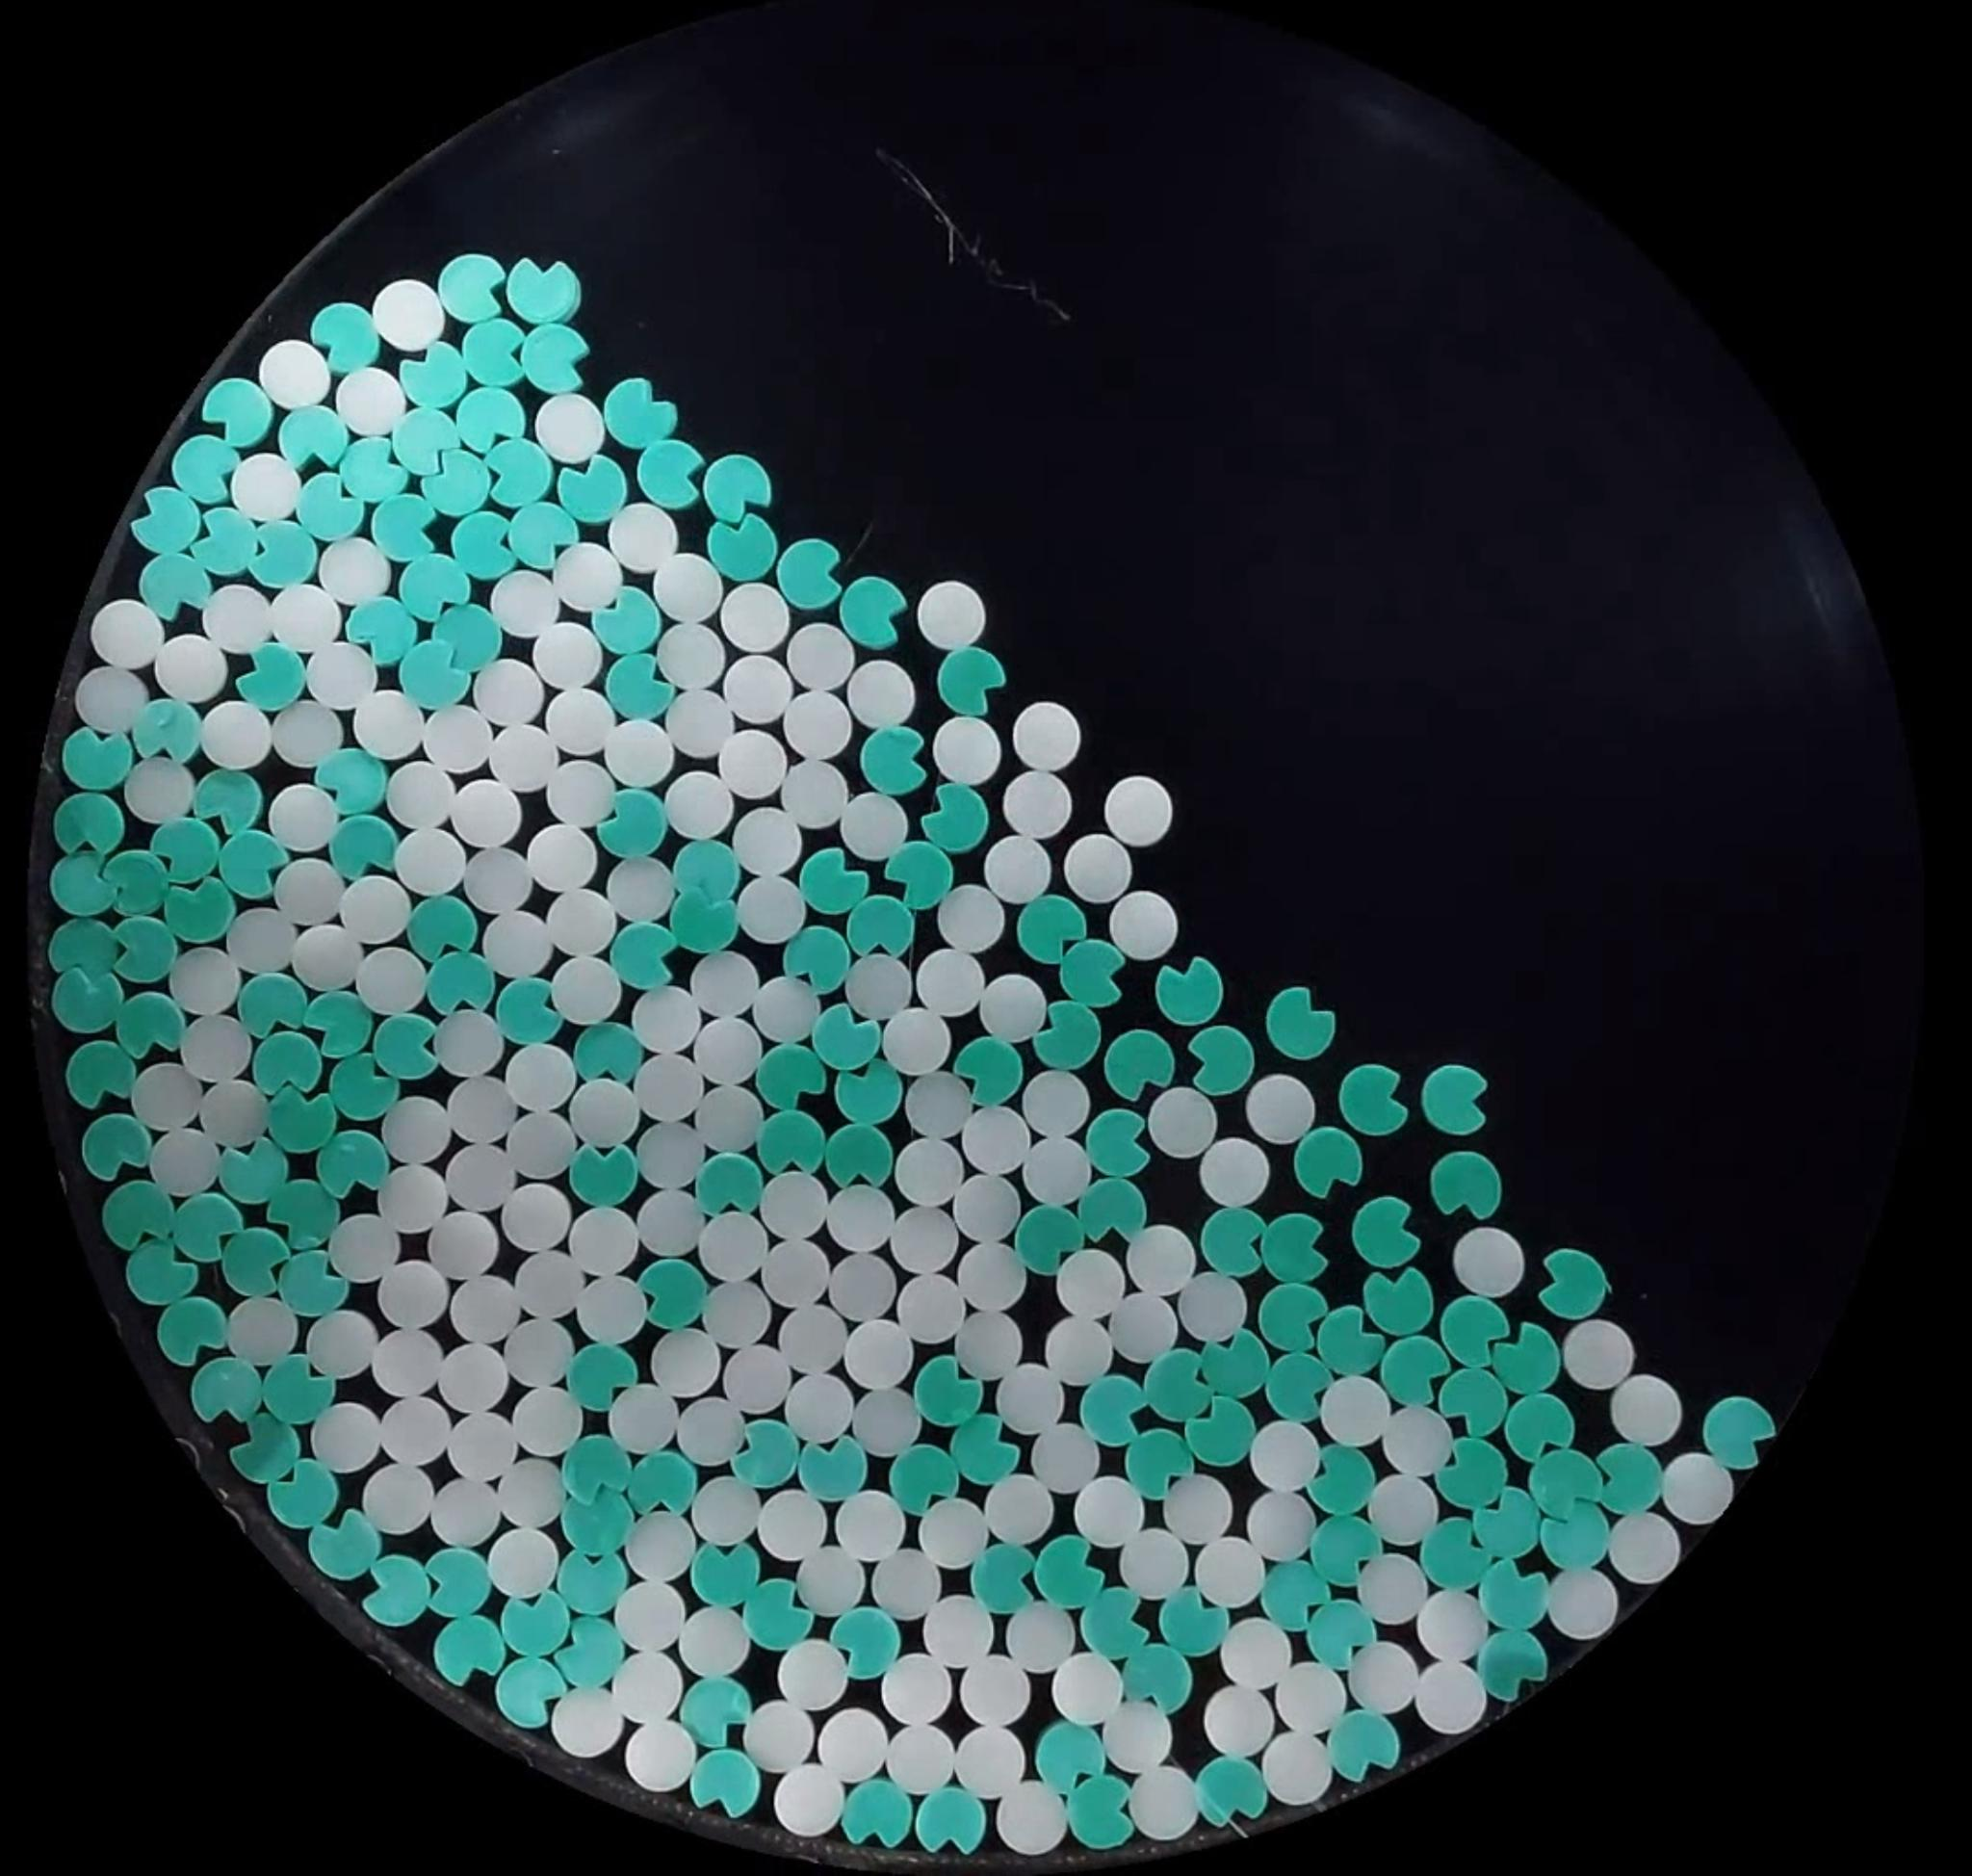no-convexa1: (1025, 986, 1115, 1082), (794, 1430, 879, 1511), (785, 846, 873, 921), (555, 1487, 637, 1566), (1296, 1594, 1379, 1673), (745, 1106, 829, 1184), (1305, 1511, 1389, 1587), (1081, 1101, 1160, 1180), (627, 1444, 703, 1527), (217, 1413, 303, 1485), (1076, 1363, 1148, 1450), (352, 1547, 430, 1626), (1194, 1325, 1268, 1407), (1034, 1533, 1106, 1617), (303, 1504, 379, 1584), (1530, 1444, 1604, 1525), (916, 1351, 988, 1434), (33, 909, 118, 979), (275, 400, 352, 476), (416, 1540, 491, 1617), (495, 972, 569, 1052), (829, 886, 910, 958), (1259, 1205, 1329, 1288), (259, 1355, 335, 1430), (963, 1540, 1037, 1617), (1435, 1362, 1505, 1443), (789, 921, 857, 1004), (100, 1177, 174, 1252), (313, 747, 391, 819), (954, 1039, 1032, 1112), (234, 974, 313, 1045), (1262, 1349, 1331, 1430), (1317, 1304, 1386, 1385), (688, 1747, 762, 1821), (1475, 1628, 1549, 1702), (1379, 1333, 1453, 1407), (1308, 1448, 1382, 1522), (1328, 1709, 1400, 1784), (560, 1434, 632, 1510), (63, 1036, 136, 1112), (234, 641, 310, 713), (412, 444, 482, 521), (1146, 953, 1224, 1023), (954, 1407, 1025, 1485), (79, 1104, 148, 1184), (171, 1191, 245, 1263), (317, 1127, 389, 1201), (636, 1256, 708, 1330), (266, 1177, 338, 1251), (1537, 1245, 1609, 1319), (398, 634, 472, 706), (1701, 1397, 1775, 1469), (680, 1675, 752, 1749), (505, 255, 581, 326), (1125, 1423, 1196, 1499), (1144, 1339, 1208, 1422), (1421, 1518, 1493, 1591), (1592, 1441, 1664, 1513), (495, 1654, 567, 1726), (829, 1606, 901, 1679), (1490, 1325, 1562, 1397), (518, 321, 590, 393), (190, 1355, 262, 1427), (400, 551, 474, 622), (606, 380, 680, 451), (1194, 1756, 1264, 1830), (201, 377, 275, 447), (97, 846, 167, 920), (327, 1050, 401, 1120), (1359, 1263, 1433, 1333), (1268, 986, 1336, 1062), (210, 1133, 285, 1201), (188, 768, 266, 835), (1199, 1201, 1261, 1284), (887, 1444, 958, 1517), (217, 828, 287, 900), (408, 893, 479, 965), (1102, 1029, 1173, 1101), (1439, 1295, 1509, 1367), (157, 1296, 229, 1367), (1481, 1561, 1551, 1633), (498, 1589, 570, 1659), (449, 509, 519, 581), (914, 1786, 986, 1857), (505, 499, 578, 569), (592, 588, 664, 659), (1421, 1064, 1491, 1136), (1472, 1490, 1542, 1562), (556, 454, 629, 525), (164, 874, 236, 944), (49, 964, 120, 1036), (347, 597, 417, 669), (431, 602, 502, 675), (597, 789, 669, 860), (829, 1055, 901, 1126), (150, 816, 224, 884), (1350, 1194, 1419, 1268), (921, 782, 990, 856), (741, 1571, 810, 1645), (308, 983, 375, 1059), (1083, 1578, 1150, 1654), (254, 1029, 324, 1099), (1185, 1397, 1255, 1467), (327, 812, 398, 883), (1431, 1150, 1502, 1221), (310, 301, 380, 372), (400, 345, 470, 416), (813, 1004, 884, 1075), (1255, 1279, 1326, 1349), (1018, 893, 1086, 965), (1187, 1023, 1255, 1096), (424, 949, 497, 1018), (433, 1615, 502, 1688), (114, 990, 187, 1059), (776, 537, 845, 609), (840, 576, 909, 648), (137, 550, 210, 618), (937, 645, 1005, 717), (1065, 1772, 1134, 1844), (130, 483, 202, 551), (1067, 1774, 1134, 1848), (276, 1242, 340, 1319), (373, 1015, 444, 1083), (109, 912, 178, 983), (169, 433, 239, 502), (569, 1141, 639, 1210), (372, 493, 442, 562), (1541, 1503, 1611, 1571), (755, 1043, 826, 1112), (268, 1460, 338, 1529), (671, 837, 741, 905), (567, 1342, 636, 1413), (703, 454, 773, 523), (669, 886, 739, 955), (125, 1238, 195, 1307), (602, 787, 671, 858), (132, 694, 202, 763), (342, 435, 412, 504), (217, 1224, 285, 1295), (62, 726, 134, 793), (1296, 1126, 1363, 1198), (1067, 1779, 1134, 1851), (1014, 1203, 1081, 1275), (884, 840, 953, 909), (609, 921, 678, 990), (690, 1538, 759, 1606), (1058, 937, 1127, 1006), (1159, 1589, 1227, 1658), (482, 437, 551, 506), (1123, 1643, 1192, 1712), (391, 407, 460, 476), (732, 1422, 801, 1490), (710, 511, 778, 580), (438, 255, 507, 324), (843, 1781, 912, 1850), (842, 1777, 910, 1846), (556, 1547, 627, 1614), (55, 791, 125, 858), (246, 521, 317, 588), (636, 439, 706, 506), (1340, 1064, 1407, 1134), (269, 1089, 335, 1161), (859, 726, 928, 793), (456, 386, 523, 454), (49, 851, 118, 918), (607, 655, 676, 722), (1257, 1561, 1328, 1626), (1037, 1725, 1104, 1791), (695, 1150, 762, 1217), (826, 1122, 893, 1189), (578, 1009, 643, 1078), (1081, 1168, 1139, 1244), (461, 319, 528, 384), (840, 1781, 905, 1848), (192, 504, 259, 567), (1511, 1393, 1572, 1462), (560, 1617, 623, 1682), (1440, 1439, 1502, 1506), (305, 474, 366, 539)
